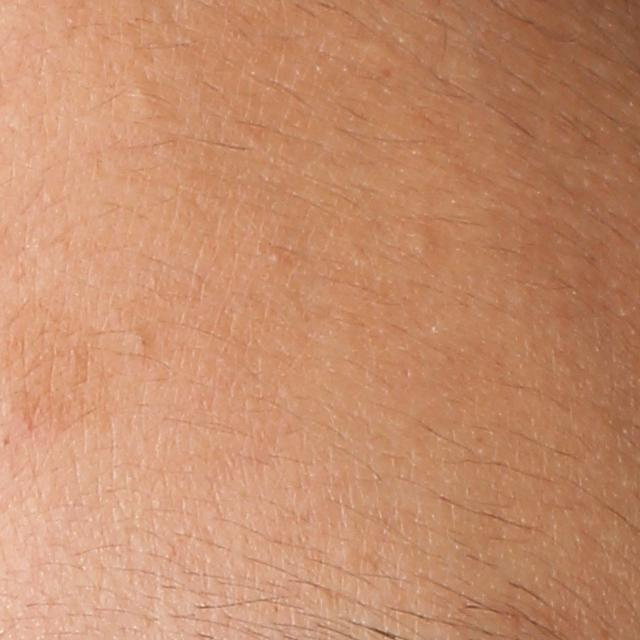comedo: (123, 326, 152, 359), (405, 226, 430, 262), (267, 249, 286, 267)
